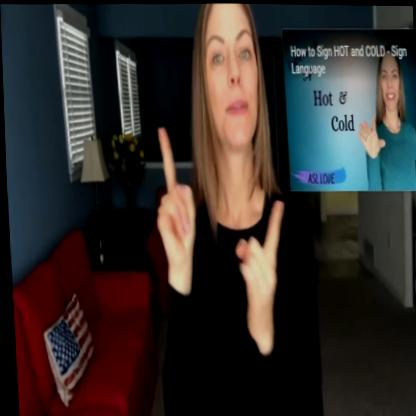NiceToMeetYou: (138, 2, 322, 416)
